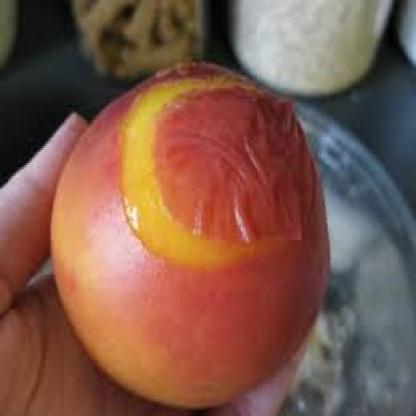Disposable tableware: (38, 56, 386, 414)
